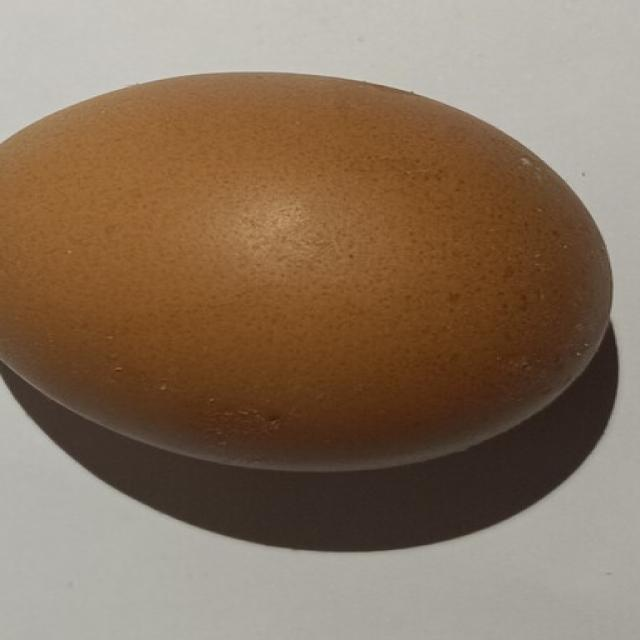fresh: (0, 72, 615, 474)
